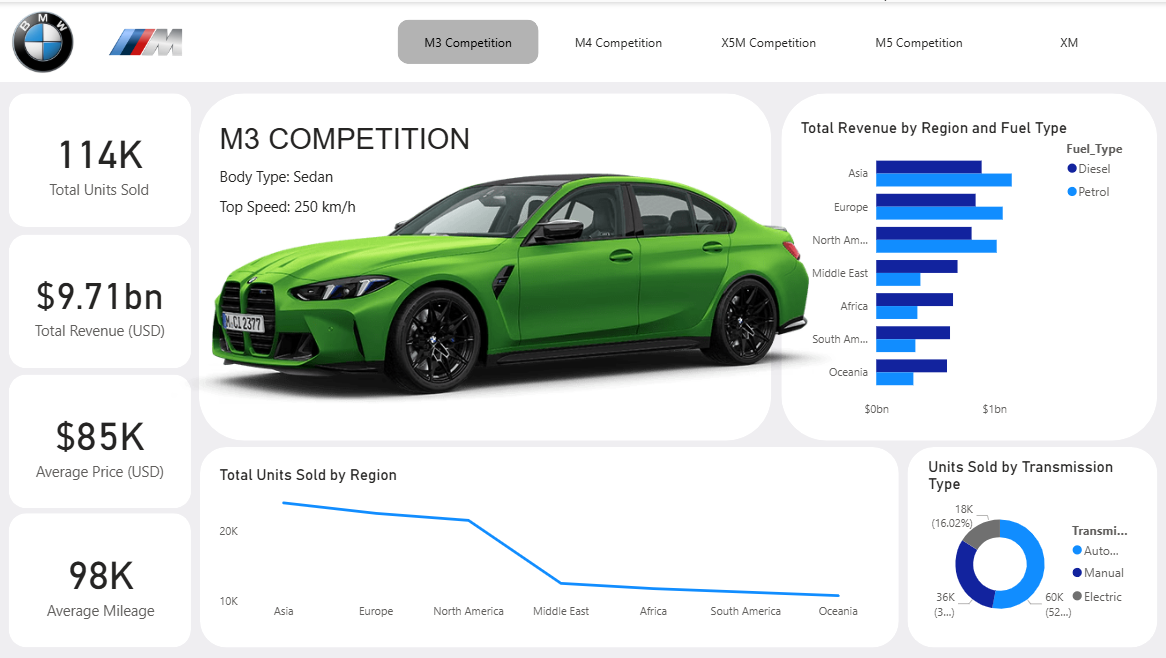

This screenshot's page, from the dashboard's own definition file:
{"tool":"powerbi","page":{"name":"M3 Competition","canvas":[1280,720],"ordinal":0},"visuals":[{"type":"shape","box":[857.1,100,412.9,381.4],"z":0},{"type":"shape","box":[995.7,488.6,274.3,220],"z":1000},{"type":"shape","box":[9.6,408.9,200.3,146.8],"z":2000},{"type":"shape","box":[9.6,255.2,200.3,146.8],"z":3000},{"type":"shape","box":[9.6,100.2,200.3,146.8],"z":4000},{"type":"shape","box":[219.3,488.6,767.1,220],"z":5000},{"type":"shape","box":[218.6,100,628.6,381.4],"z":6000},{"type":"textbox","box":[235.7,127.1,287.1,48.6],"z":7000},{"type":"lineChart","title":"Total Units Sold by Region","fields":{"Category":["M3_competition.Region"],"Y":["Sum(M3_competition.Units_Sold)"]},"box":[235.7,508.6,730,178.6],"z":8000},{"type":"shape","box":[0,0,1280.3,87.8],"z":9000},{"type":"image","box":[0,0,93.3,87.8],"z":10000},{"type":"image","box":[92.9,18.6,132.9,50],"z":11000},{"type":"card","fields":{"Values":["Sum(M3_competition.Units_Sold)"]},"box":[39.8,113.9,138.6,119.4],"z":12000},{"type":"card","fields":{"Values":["Sum(M3_competition.Revenue_USD)"]},"box":[32.9,270.3,153.7,118],"z":13000},{"type":"card","fields":{"Values":["Avg(M3_competition.Avg_Price_USD)"]},"box":[32.9,424,153.7,118],"z":14000},{"type":"shape","box":[10,561.4,200,147.1],"z":15000},{"type":"textbox","box":[235.7,175.7,152.9,32.9],"z":16000},{"type":"card","fields":{"Values":["Avg(M3_competition.Mileage_KM)"]},"box":[20,584.3,180,102.9],"z":17000},{"type":"donutChart","title":"Units Sold by Transmission Type","fields":{"Y":["Sum(M3_competition.Units_Sold)"],"Category":["M3_competition.Transmission"]},"box":[1014.3,500,235.7,197.1],"z":18000},{"type":"clusteredBarChart","title":"Total Revenue by Region and Fuel Type","fields":{"Y":["Sum(M3_competition.Revenue_USD)"],"Category":["M3_competition.Region"],"Series":["M3_competition.Fuel_Type"]},"box":[874.1,127.6,381.5,337.6],"z":19000},{"type":"textbox","box":[235.7,208.6,168.6,50],"z":20000},{"type":"image","box":[142.9,0,871.4,561.4],"z":21000},{"type":"pageNavigator","box":[436.4,19.2,819.2,49.4],"z":22000}]}

Visuals, with their boxes in screenshot pixels (x1, y1, x2, y2), scaled from the page's 1280x720 canvas onto the 1166x658 screenshot:
shape: [left=781, top=91, right=1157, bottom=440]
shape: [left=907, top=447, right=1157, bottom=648]
shape: [left=9, top=374, right=191, bottom=508]
shape: [left=9, top=233, right=191, bottom=367]
shape: [left=9, top=92, right=191, bottom=226]
shape: [left=200, top=447, right=899, bottom=648]
shape: [left=199, top=91, right=772, bottom=440]
textbox: [left=215, top=116, right=476, bottom=161]
"Total Units Sold by Region" lineChart: [left=215, top=465, right=880, bottom=628]
shape: [left=0, top=0, right=1165, bottom=80]
image: [left=0, top=0, right=85, bottom=80]
image: [left=85, top=17, right=206, bottom=63]
card - Sum(M3_competition.Units_Sold): [left=36, top=104, right=163, bottom=213]
card - Sum(M3_competition.Revenue_USD): [left=30, top=247, right=170, bottom=355]
card - Avg(M3_competition.Avg_Price_USD): [left=30, top=387, right=170, bottom=495]
shape: [left=9, top=513, right=191, bottom=647]
textbox: [left=215, top=161, right=354, bottom=191]
card - Avg(M3_competition.Mileage_KM): [left=18, top=534, right=182, bottom=628]
"Units Sold by Transmission Type" donutChart: [left=924, top=457, right=1139, bottom=637]
"Total Revenue by Region and Fuel Type" clusteredBarChart: [left=796, top=117, right=1144, bottom=425]
textbox: [left=215, top=191, right=368, bottom=236]
image: [left=130, top=0, right=924, bottom=513]
pageNavigator: [left=398, top=18, right=1144, bottom=63]
